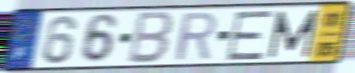6: (79, 13, 119, 66), (40, 14, 78, 66)
B: (125, 10, 177, 66)
E: (224, 9, 276, 63)
M: (266, 9, 321, 60)
R: (173, 10, 218, 64)
